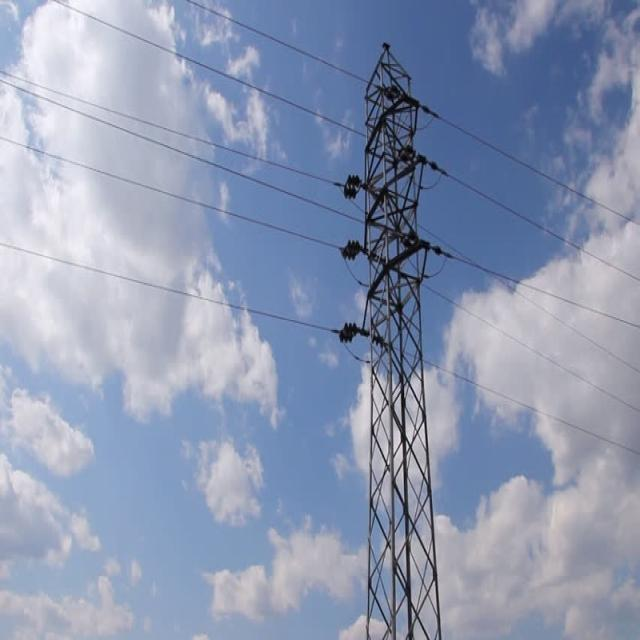non-critical vegetation: (342, 44, 448, 622)
